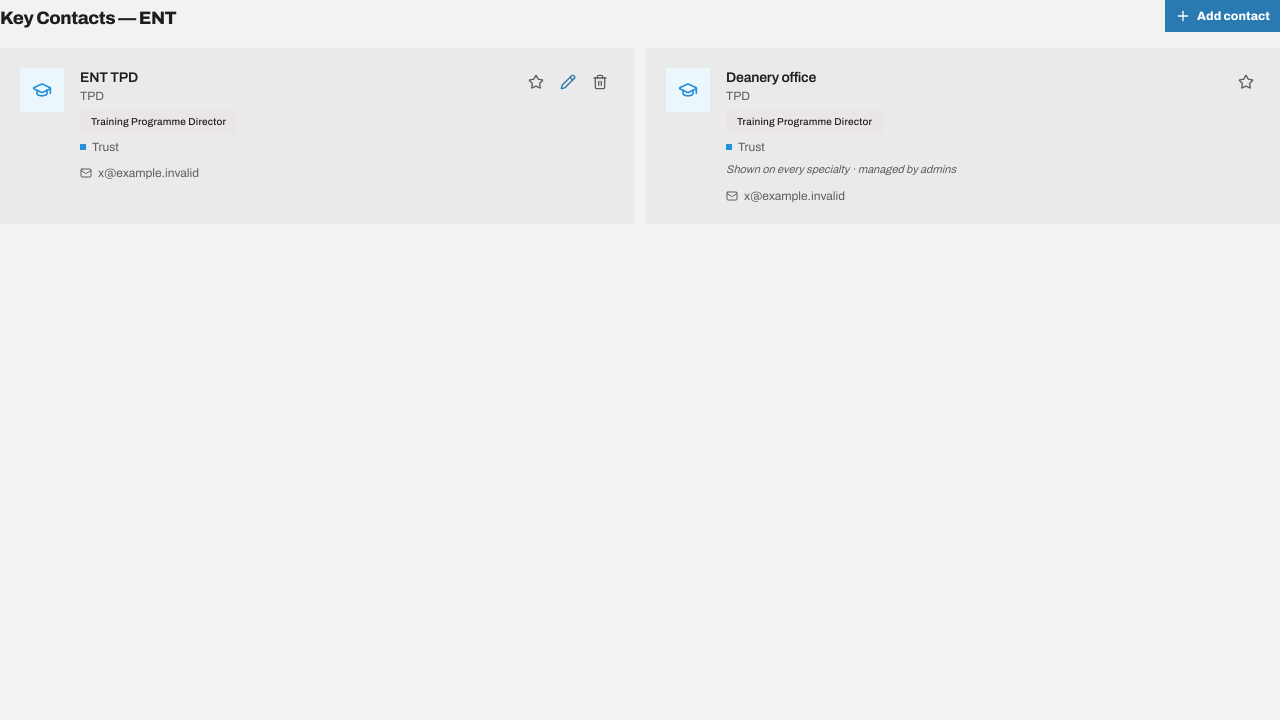
Test: SpecialtyContacts › explains what is missing instead of saving an incomplete contact
This screenshot has width=1280, height=720.
Click the button "Add contact" at (1223, 16), box [1165,0,1279,32]
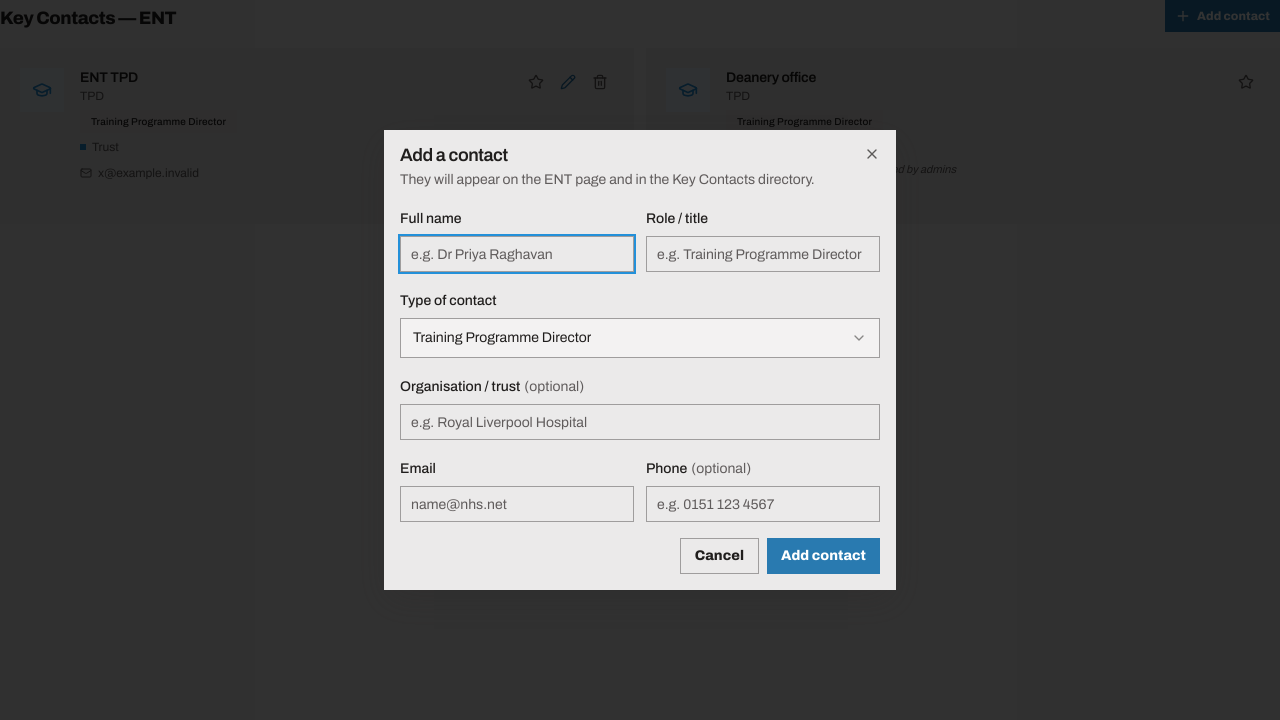
Click the button "Add contact" at (823, 556), box [767,538,880,574]
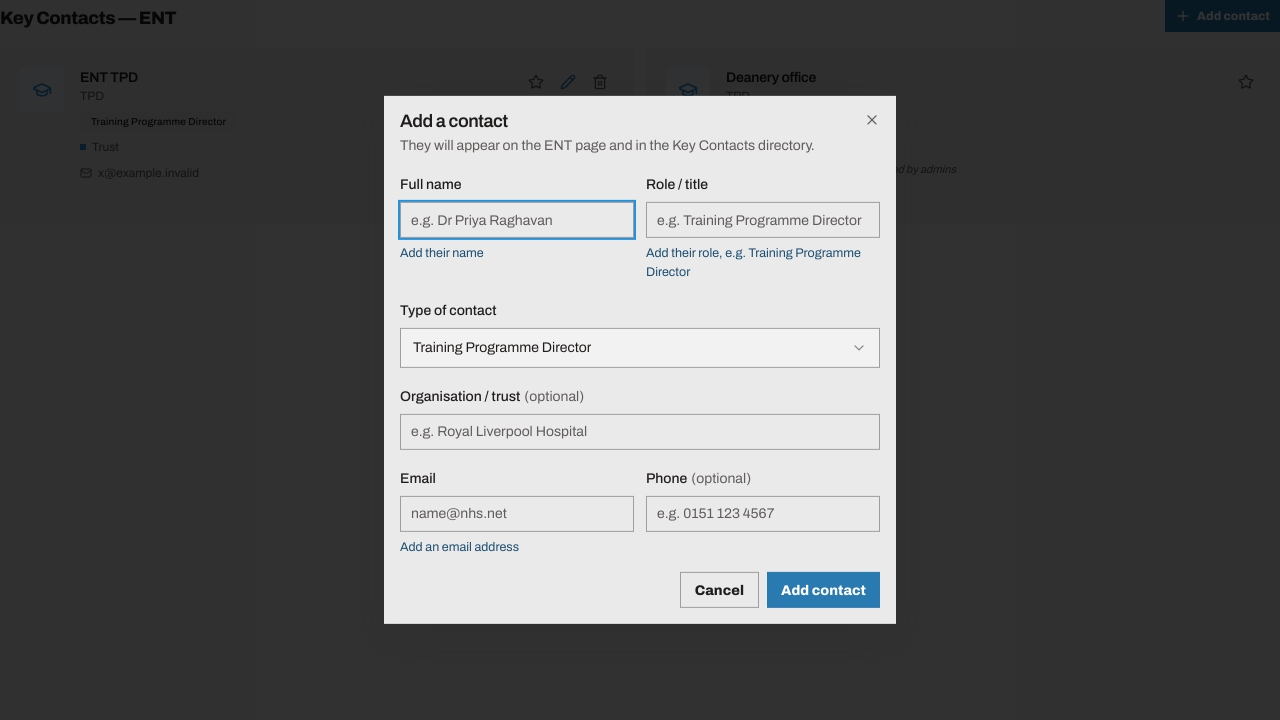
Now the text "Add their name" is shown, box [400,246,484,260]
Now the text "Add an email address" is shown, box [400,539,519,553]
